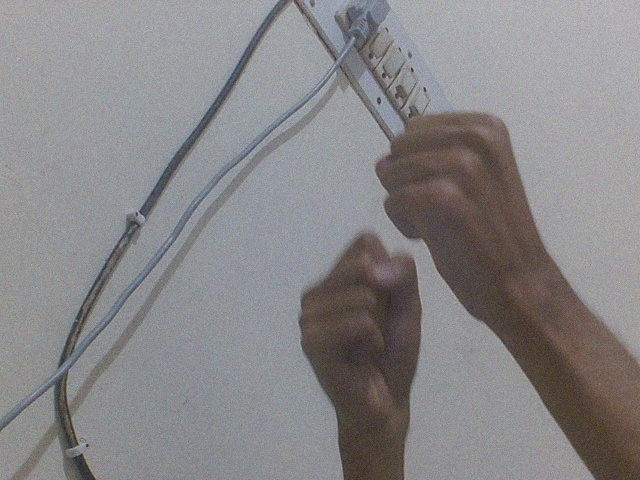hand: (372, 103, 565, 340), (295, 228, 428, 446)
